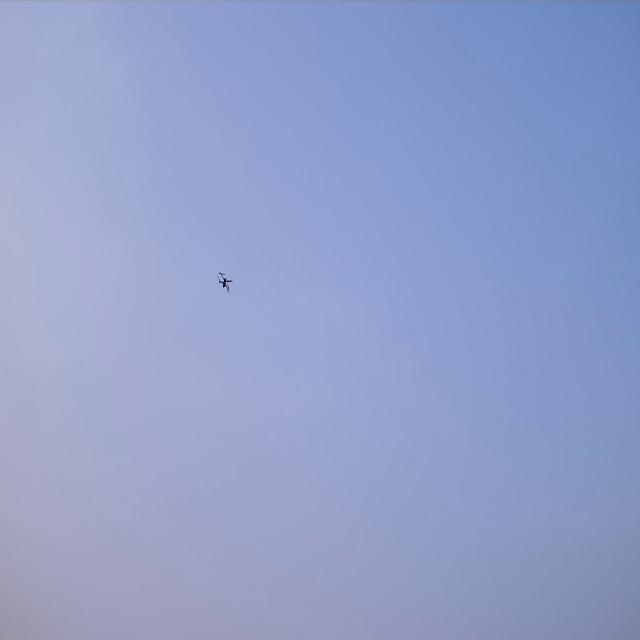UAV: (216, 270, 234, 295)
